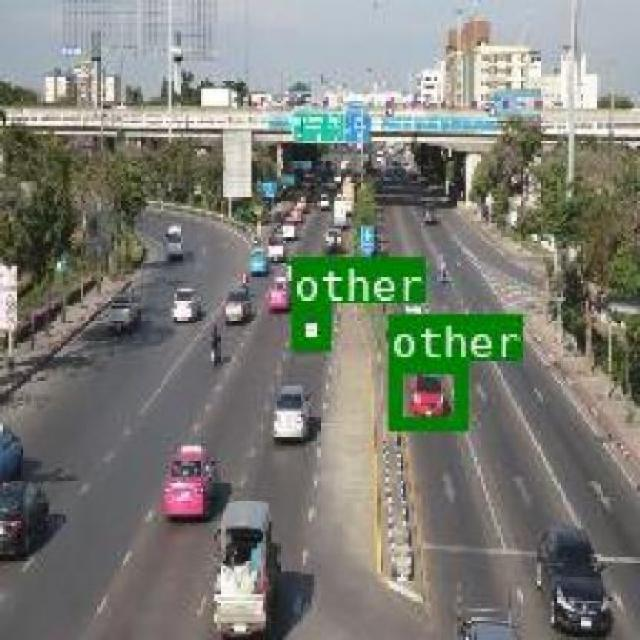other: (387, 358, 465, 428), (291, 302, 327, 347)
